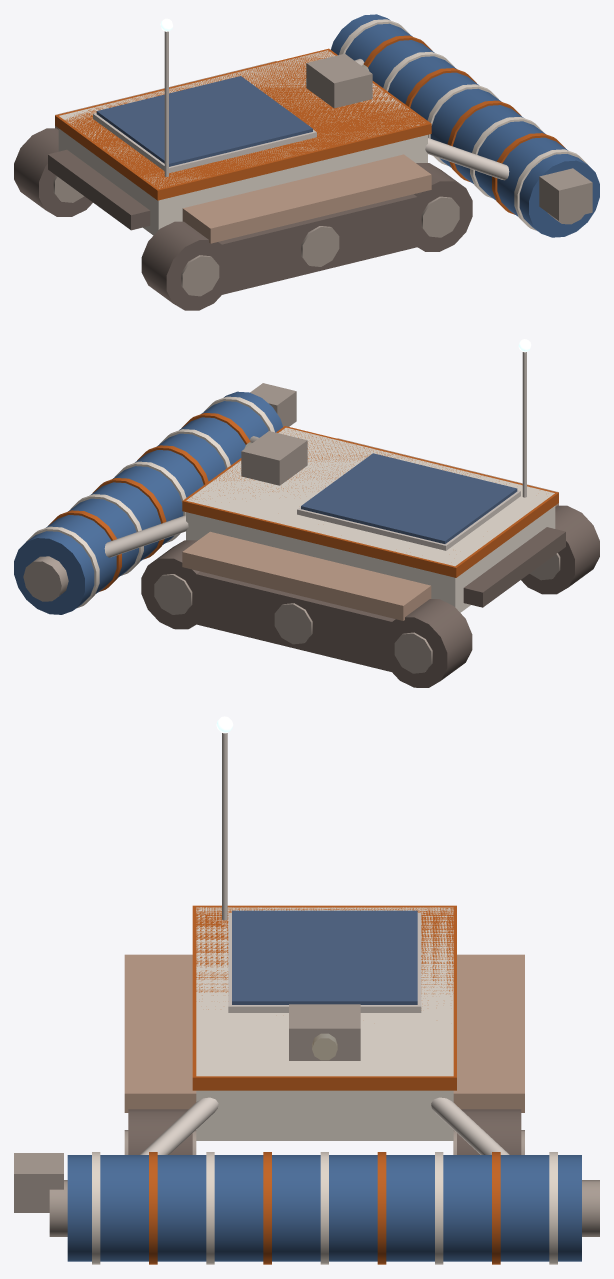
The model's file is V15_solar_cleaning_robot.glb.
The picture shows the model from 3 angles, top to bottom: view 1: azimuth 30°, elevation 25°; view 2: azimuth 150°, elevation 25°; view 3: azimuth 270°, elevation 25°; orthographic projection. The views are drawn at different scales.
Parts seen in each view (by area): view 1: chassis_stripe, rotating_brush, chassis, top_solar_cell, track_belt, track_guard, track_end (×3), brush_band (×9), track_wheel (×4), rear_wiper, sensor_pod, brush_motor (+3 smaller); view 2: chassis, rotating_brush, top_solar_cell, track_belt, track_guard, track_end (×3), chassis_stripe, track_wheel (×4), brush_band (×6), rear_wiper, sensor_pod, V15_solar_cleaning_robot (+4 smaller); view 3: rotating_brush, chassis, track_guard (×2), top_solar_cell, chassis_stripe, brush_band (×9), track_end (×2), sensor_pod, brush_arm (×2), brush_motor, V15_solar_cleaning_robot, brush_bearing (×2) (+1 smaller).
Boxes of the visible parts, bbox=[...] form: chassis_stripe: bbox=[55, 48, 431, 200]; rotating_brush: bbox=[331, 14, 599, 237]; chassis: bbox=[58, 50, 427, 235]; top_solar_cell: bbox=[96, 76, 312, 166]; track_belt: bbox=[199, 191, 439, 300]; track_guard: bbox=[182, 154, 431, 243]; track_end (×3): bbox=[14, 128, 472, 310]; brush_band (×9): bbox=[339, 19, 587, 230]; track_wheel (×4): bbox=[53, 175, 459, 296]; rear_wiper: bbox=[48, 149, 150, 230]; sensor_pod: bbox=[306, 53, 372, 108]; brush_motor: bbox=[539, 168, 592, 220]; chassis: bbox=[186, 427, 555, 612]; rotating_brush: bbox=[14, 391, 282, 614]; top_solar_cell: bbox=[301, 453, 517, 543]; track_belt: bbox=[174, 570, 414, 677]; track_guard: bbox=[182, 531, 431, 620]; track_end (×3): bbox=[141, 505, 599, 687]; chassis_stripe: bbox=[182, 426, 558, 577]; track_wheel (×4): bbox=[154, 553, 560, 673]; brush_band (×6): bbox=[26, 445, 208, 607]; rear_wiper: bbox=[463, 527, 565, 607]; sensor_pod: bbox=[241, 431, 307, 485]; V15_solar_cleaning_robot: bbox=[297, 339, 531, 550]; rotating_brush: bbox=[67, 1155, 581, 1261]; chassis: bbox=[196, 907, 453, 1140]; track_guard (×2): bbox=[124, 954, 524, 1112]; top_solar_cell: bbox=[232, 910, 417, 1004]; chassis_stripe: bbox=[192, 905, 456, 1090]; brush_band (×9): bbox=[92, 1152, 557, 1264]; track_end (×2): bbox=[128, 1109, 521, 1154]; sensor_pod: bbox=[289, 1004, 360, 1060]; brush_arm (×2): bbox=[140, 1097, 509, 1154]; brush_motor: bbox=[14, 1153, 63, 1212]; V15_solar_cleaning_robot: bbox=[216, 716, 421, 1012]; brush_bearing (×2): bbox=[49, 1180, 599, 1236].
Size of the model in its own units: 0.8578 by 0.522 by 0.82.
